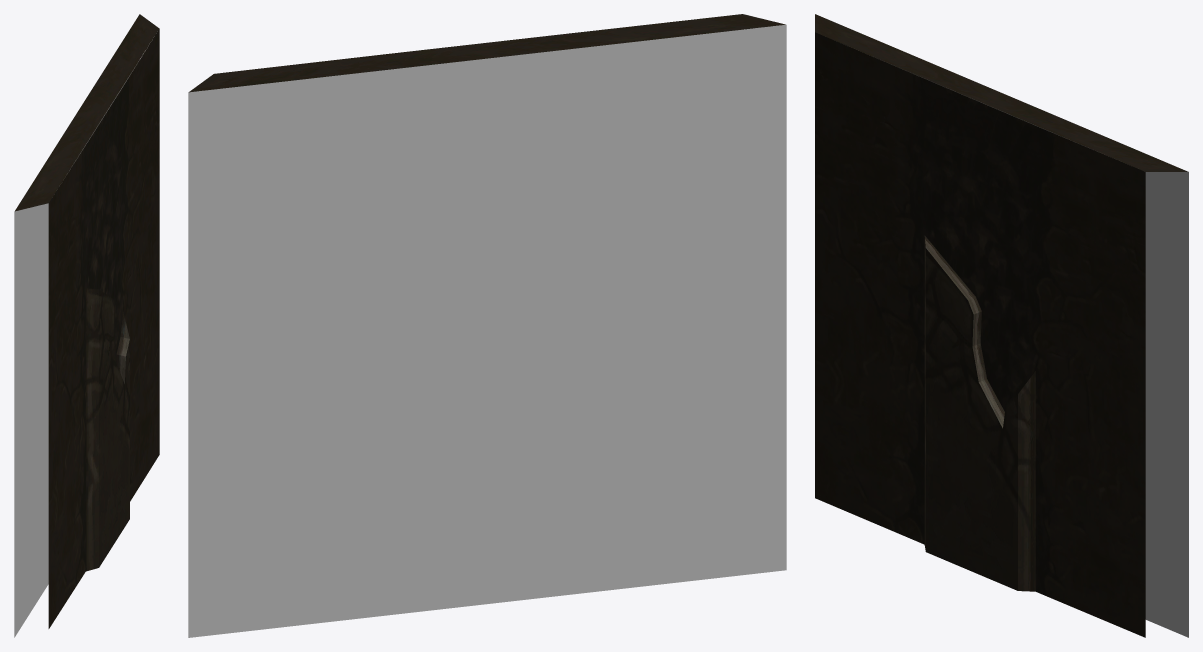
The model's file is fortress_wall_diagonal_02_d.fbx.
The picture shows the model from 3 angles, left to right: view 1: azimuth 30°, elevation 25°; view 2: azimuth 150°, elevation 25°; view 3: azimuth 270°, elevation 25°; orthographic projection. The views are drawn at different scales.
Visible parts, largest first — view 1: fortress_wall_diagonal_02_d-0; view 2: fortress_wall_diagonal_02_d-0; view 3: fortress_wall_diagonal_02_d-0.
Boxes of the visible parts, x1,y1,x2,y2 form: fortress_wall_diagonal_02_d-0: [14, 14, 159, 637]; fortress_wall_diagonal_02_d-0: [188, 14, 786, 637]; fortress_wall_diagonal_02_d-0: [815, 14, 1188, 637].
Bounding box in the file's own units: 4 × 5.5 × 4.
